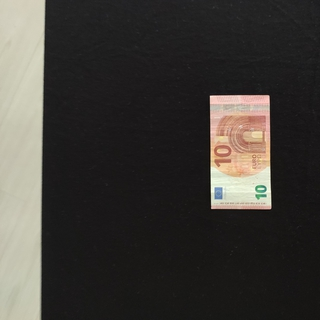10EUROFront: (209, 94, 272, 210)
